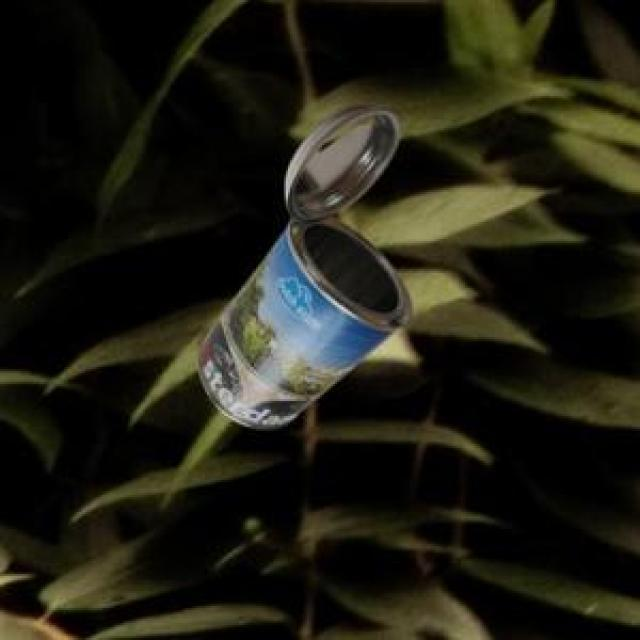Can: (195, 103, 409, 426)
